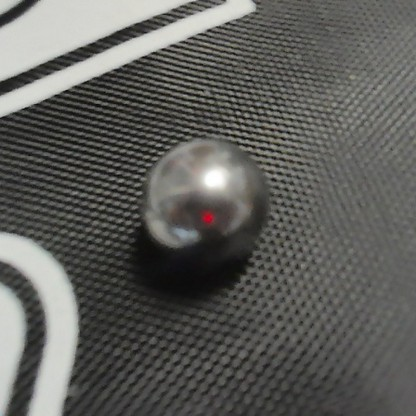ironball: (144, 134, 268, 256)
